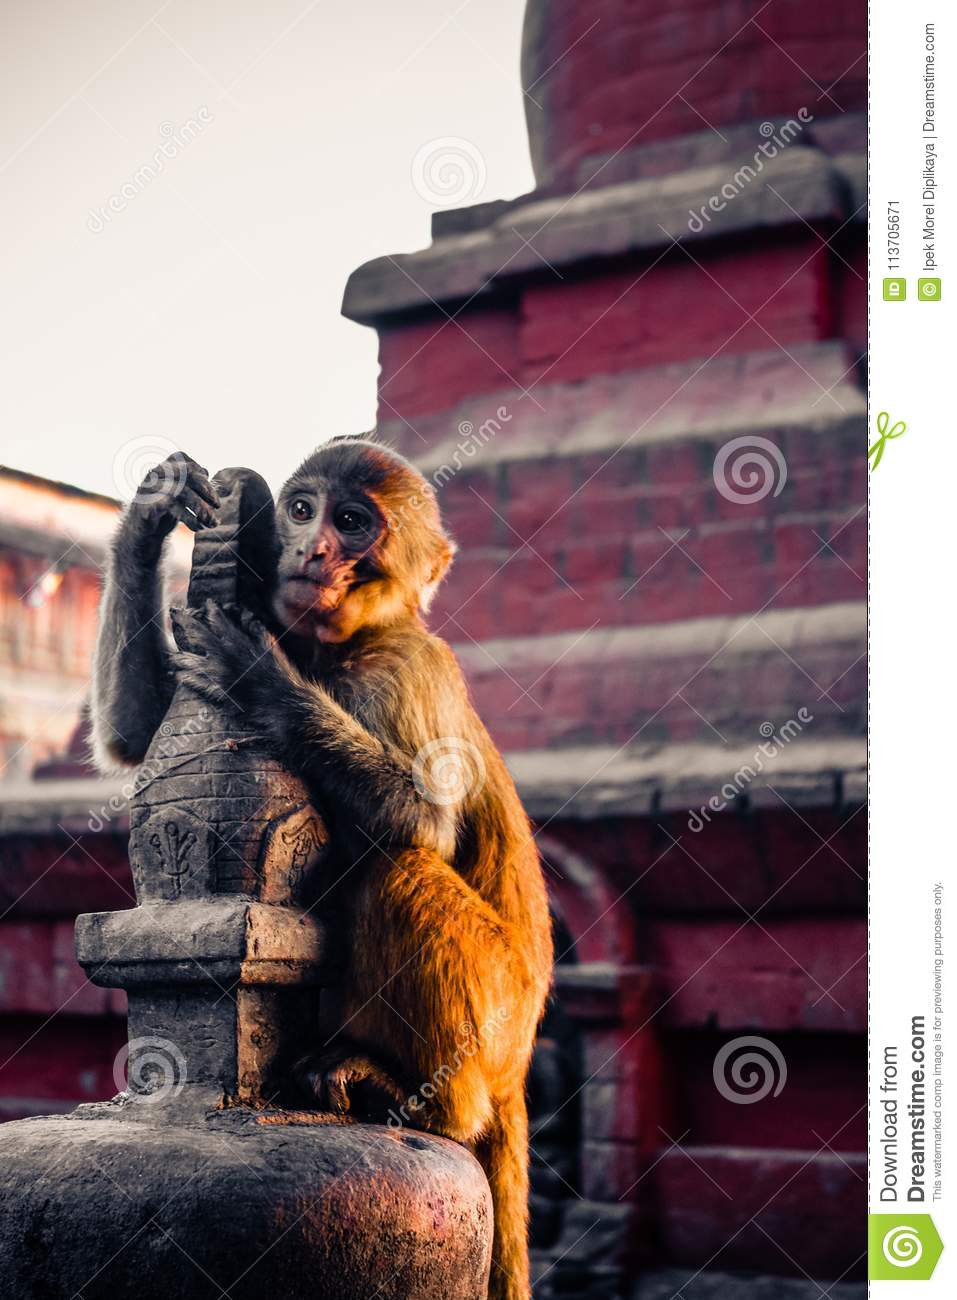monkey: (126, 380, 584, 1292)
